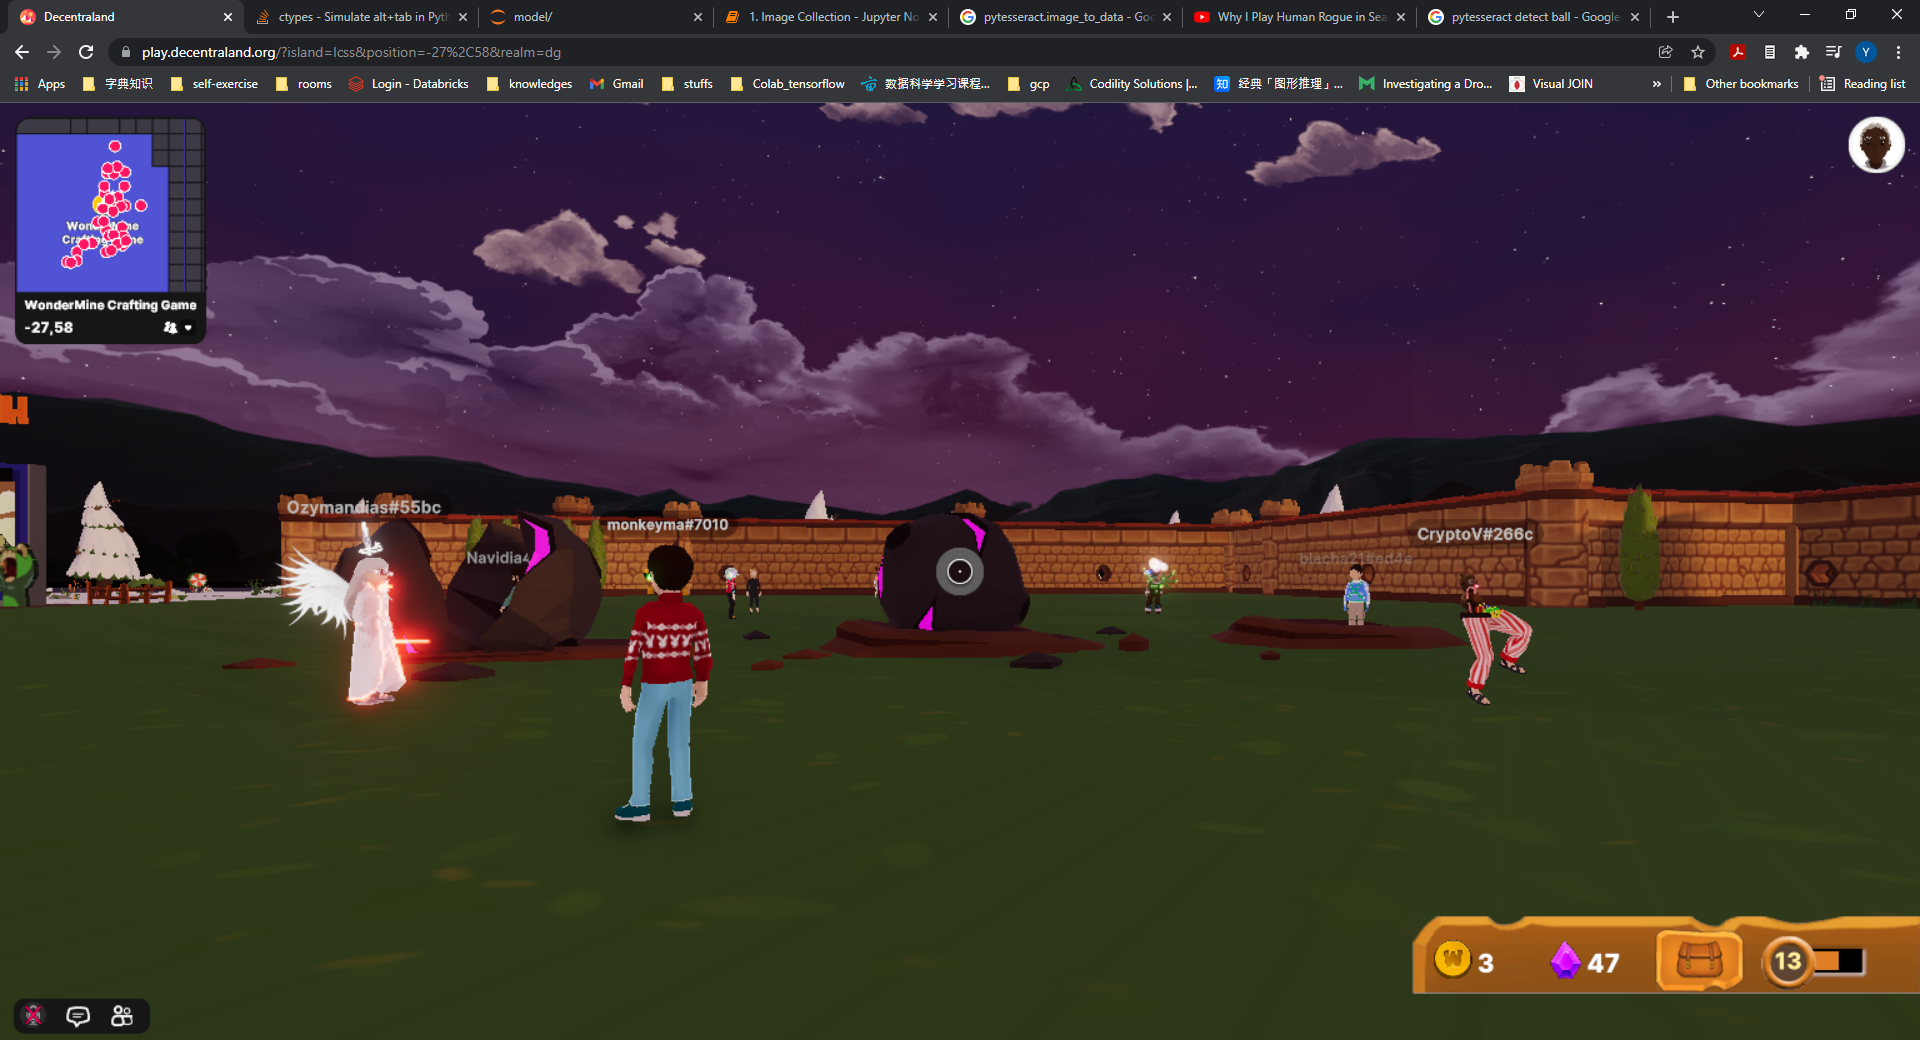black_ball: (852, 491, 1043, 649)
